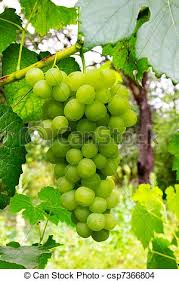grapes: (26, 63, 129, 246)
